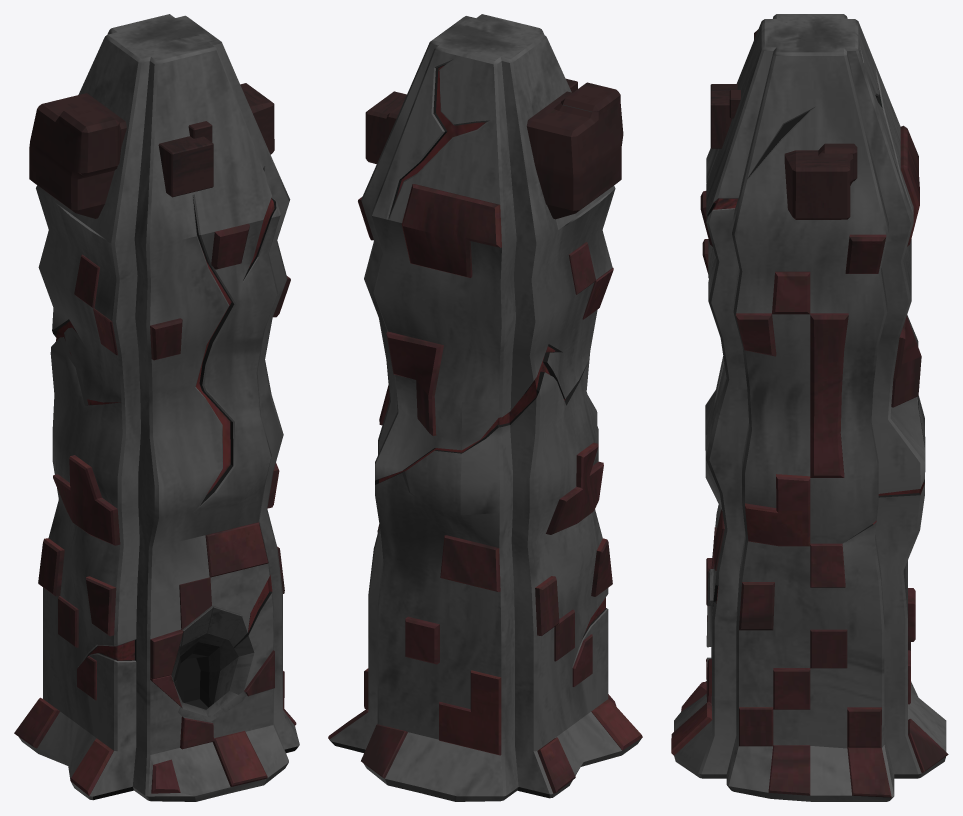
Rendered from TowerSpawner.fbx.
3 views of the same model, side by side, from view 1: azimuth 30°, elevation 25°; view 2: azimuth 150°, elevation 25°; view 3: azimuth 270°, elevation 25° (orthographic).
Parts seen in each view (by area): view 1: EnemySpawnPillar; view 2: EnemySpawnPillar; view 3: EnemySpawnPillar.
Part boxes in pixels (x1,y1,x2,y2): EnemySpawnPillar: [14, 14, 299, 801]; EnemySpawnPillar: [328, 14, 642, 801]; EnemySpawnPillar: [671, 14, 948, 801].
Size of the model in its own units: 921 by 2657 by 938.
